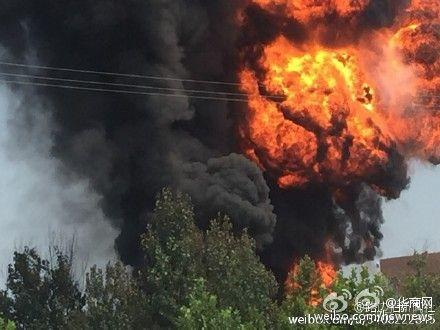fire: (247, 3, 440, 182)
smoke: (8, 9, 239, 228)
